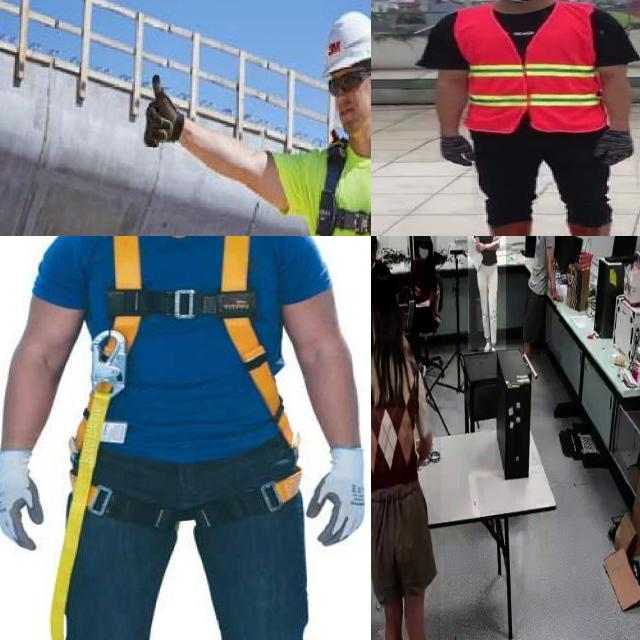Harness: (52, 236, 312, 640)
boots: (477, 221, 536, 236)
face_mask: (417, 244, 433, 265)
face_nomask: (371, 241, 376, 263)
hand_noglove: (550, 288, 564, 302), (474, 239, 486, 252), (491, 236, 500, 244)
head_nohelmet: (371, 277, 399, 312), (415, 236, 433, 242)
person: (424, 0, 640, 236), (371, 277, 441, 640), (525, 236, 560, 367), (467, 236, 506, 350), (408, 236, 437, 332), (371, 236, 389, 334)
vest: (454, 4, 604, 133)
